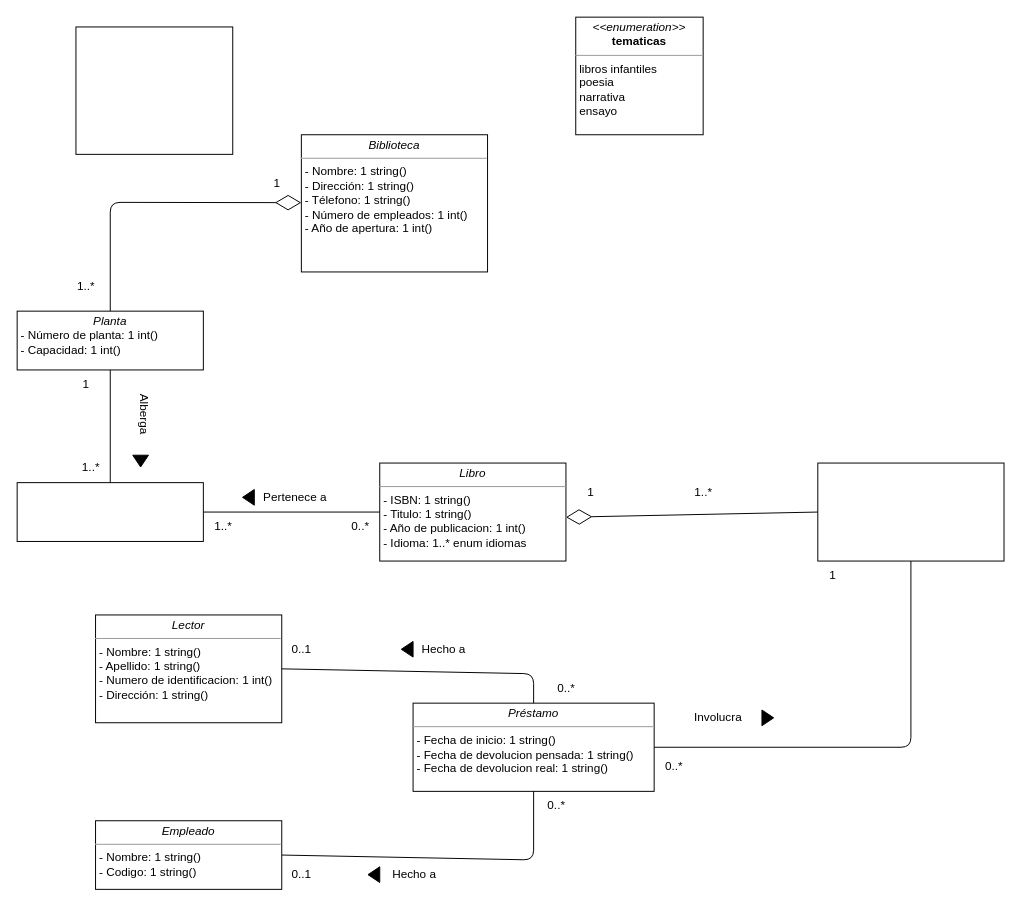
The diagram is 1021 pixels wide and 907 high, and some of its shapes have lost their labels. Each missing label, with the centre of its shape:
<<enumeration>> idiomas Español Inglés Francés Italiano Alemán: pixel 154 90
Ejemplar - Codigo: 1 int() - Editorial: 1 string() - Año de adquisición: 1 int(): pixel 910 511
Temática - Nombre: 1 enum tematicas: pixel 109 511
